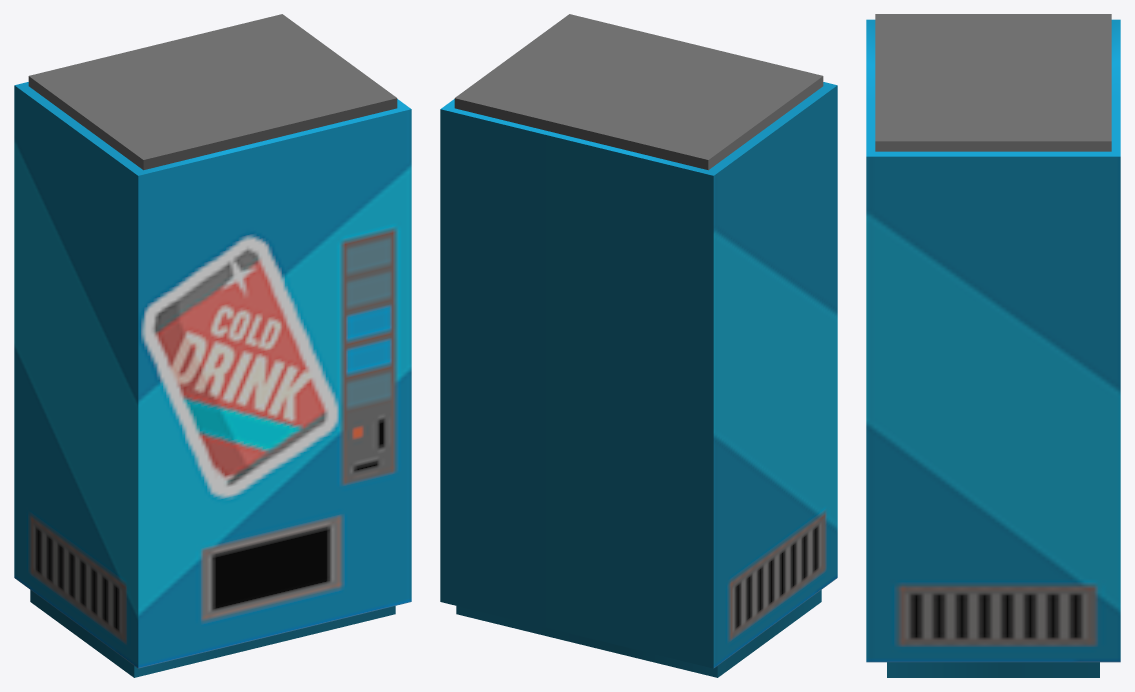
Rendered from SM_VendingMachine_Large_01.fbx.
The picture shows the model from 3 angles, left to right: view 1: azimuth 30°, elevation 25°; view 2: azimuth 150°, elevation 25°; view 3: azimuth 270°, elevation 25°; orthographic projection. The views are drawn at different scales.
Visible parts, largest first — view 1: SM_VendingMachine_Large_01; view 2: SM_VendingMachine_Large_01; view 3: SM_VendingMachine_Large_01.
Part boxes in pixels (box(x1,y1,x2,y2)): SM_VendingMachine_Large_01: box(14, 14, 411, 677); SM_VendingMachine_Large_01: box(440, 14, 837, 677); SM_VendingMachine_Large_01: box(866, 14, 1120, 677).
Size of the model in its own units: 1.84 by 3.35 by 1.44.
